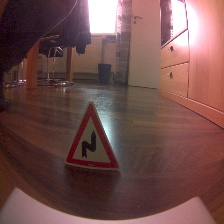vorsicht: (66, 99, 123, 173)
